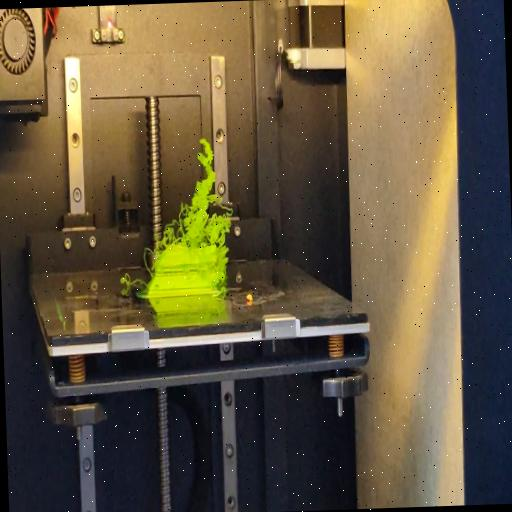spaghetti: (156, 134, 236, 252), (214, 248, 230, 298), (142, 242, 156, 274), (117, 273, 145, 288)
